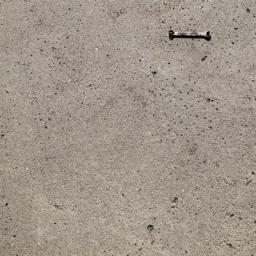FOD: (167, 27, 216, 44)
